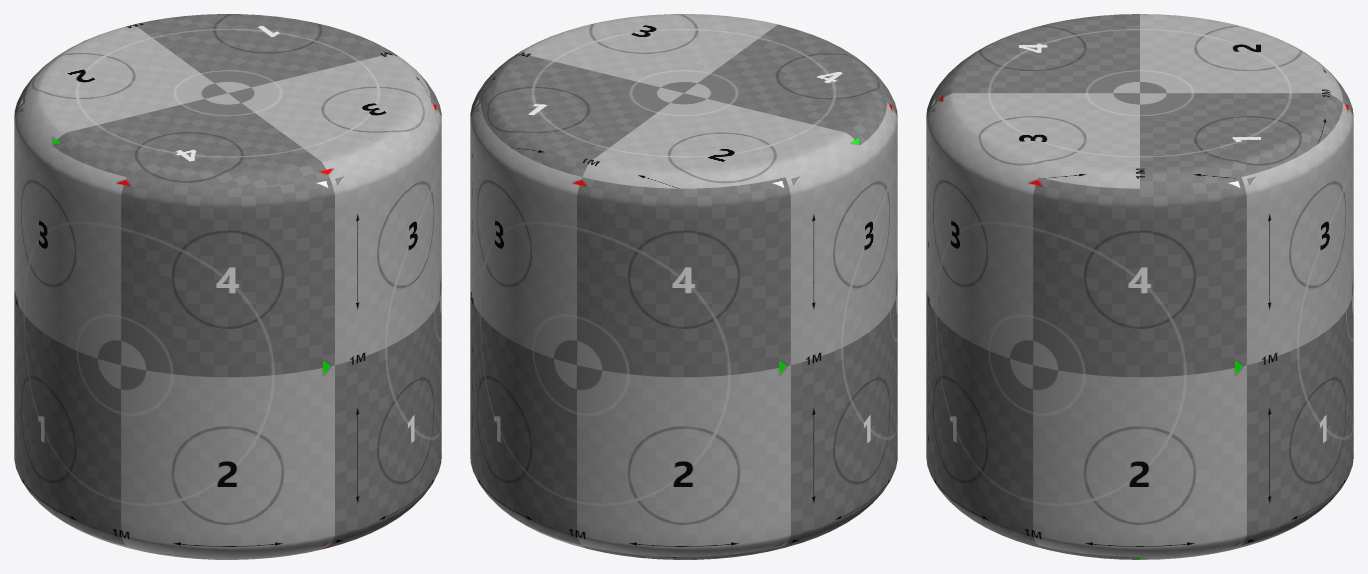
Rendered from BeveledCylinder.fbx.
3 views of the same model, side by side, from view 1: azimuth 30°, elevation 25°; view 2: azimuth 150°, elevation 25°; view 3: azimuth 270°, elevation 25° (orthographic).
Visible parts, largest first — view 1: BeveledCylinder_1m1; view 2: BeveledCylinder_1m1; view 3: BeveledCylinder_1m1.
Boxes of the visible parts, left/top/right/bottom form: BeveledCylinder_1m1: left=14, top=14, right=441, bottom=559; BeveledCylinder_1m1: left=470, top=14, right=897, bottom=559; BeveledCylinder_1m1: left=926, top=14, right=1353, bottom=559.
Size of the model in its own units: 1 by 1 by 1.
Materials: 1 (1 with a texture image).
